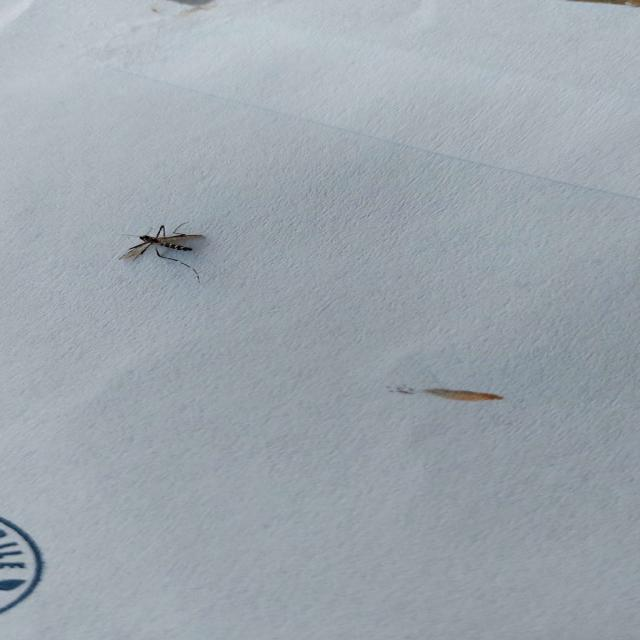albopictus: (106, 217, 215, 282)
